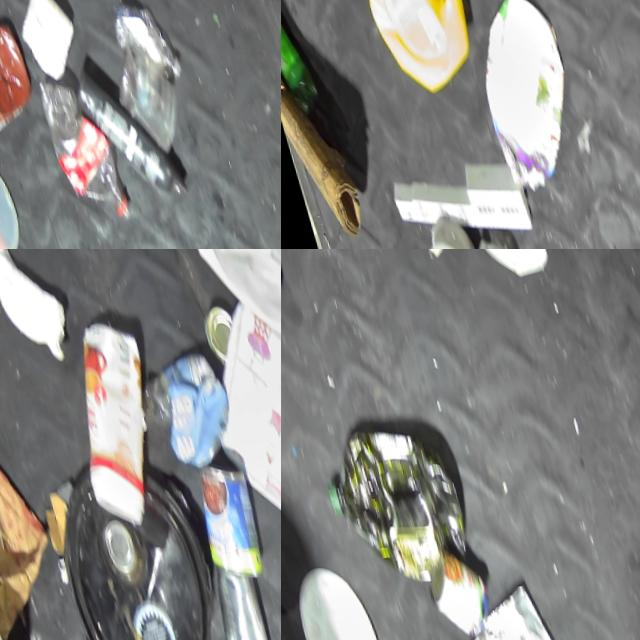can: (176, 450, 266, 584), (436, 570, 578, 640), (409, 543, 487, 640), (192, 554, 268, 640), (191, 296, 243, 365)
milk_jug: (168, 249, 281, 372)
non_white_jug: (301, 408, 474, 596), (330, 0, 483, 100), (0, 0, 39, 151)
plastic_bottle: (25, 66, 126, 232), (117, 342, 225, 436), (281, 0, 317, 122)
